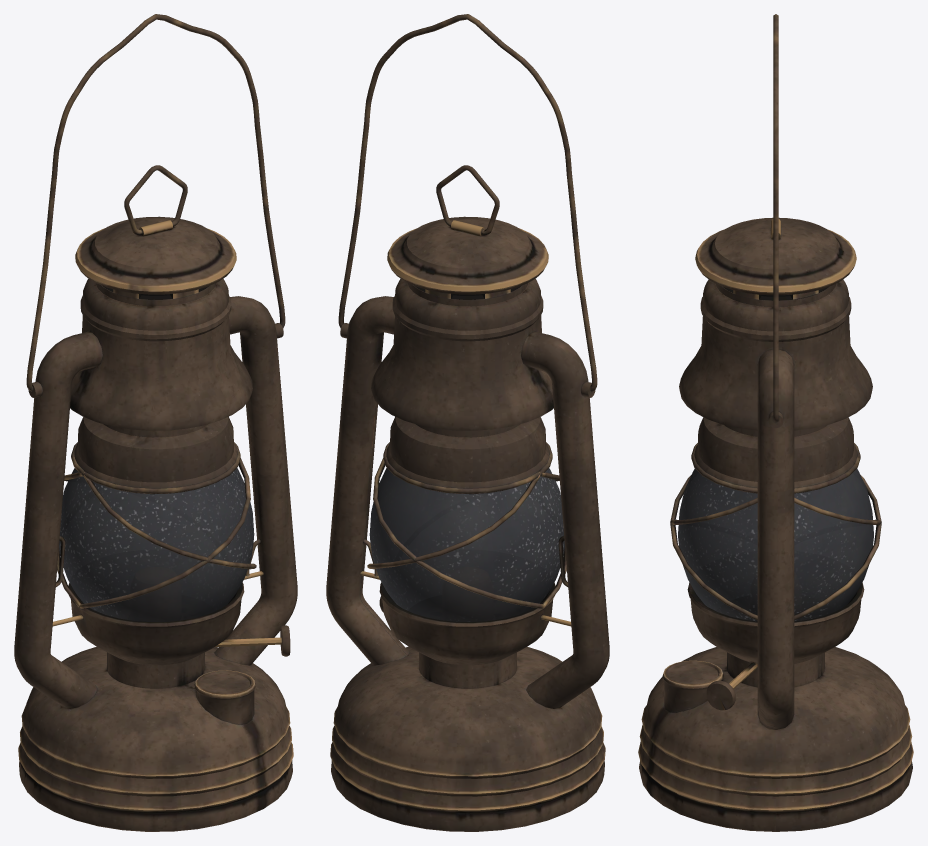
File: lantern_final.glb
The picture shows the model from 3 angles, left to right: view 1: azimuth 30°, elevation 25°; view 2: azimuth 150°, elevation 25°; view 3: azimuth 270°, elevation 25°; orthographic projection.
Parts seen in each view (by area): view 1: SM_Lantern_Fount, SM_Lantern_Hood, SM_Lantern_Tubes, SM_Lantern_Globe, SM_Lantern_Burner, SM_Lantern_Cap, SM_Lantern_Bail, SM_Lantern_Guard, SM_Lantern_FillCap, SM_Lantern_TopHandle; view 2: SM_Lantern_Fount, SM_Lantern_Hood, SM_Lantern_Tubes, SM_Lantern_Globe, SM_Lantern_Cap, SM_Lantern_Burner, SM_Lantern_Bail, SM_Lantern_Guard, SM_Lantern_TopHandle; view 3: SM_Lantern_Fount, SM_Lantern_Hood, SM_Lantern_Globe, SM_Lantern_Tubes, SM_Lantern_Cap, SM_Lantern_Burner, SM_Lantern_Guard, SM_Lantern_Bail, SM_Lantern_FillCap.
Boxes of the visible parts, x1,y1,x2,y2 form: SM_Lantern_Fount: (18,646,293,831); SM_Lantern_Hood: (70,278,252,494); SM_Lantern_Tubes: (14,296,297,708); SM_Lantern_Globe: (59,468,254,621); SM_Lantern_Burner: (68,582,290,688); SM_Lantern_Cap: (75,216,236,294); SM_Lantern_Bail: (26,14,285,391); SM_Lantern_Guard: (52,442,263,626); SM_Lantern_FillCap: (194,670,255,724); SM_Lantern_TopHandle: (124,165,187,236); SM_Lantern_Fount: (330,646,605,831); SM_Lantern_Hood: (371,278,553,494); SM_Lantern_Tubes: (326,296,609,708); SM_Lantern_Globe: (369,468,564,621); SM_Lantern_Cap: (387,216,548,294); SM_Lantern_Burner: (379,582,555,688); SM_Lantern_Bail: (338,14,597,391); SM_Lantern_Guard: (360,442,571,626); SM_Lantern_TopHandle: (436,165,499,236); SM_Lantern_Fount: (638,647,913,831); SM_Lantern_Hood: (679,279,872,493); SM_Lantern_Globe: (678,468,873,621); SM_Lantern_Tubes: (757,349,794,729); SM_Lantern_Cap: (695,217,856,295); SM_Lantern_Burner: (687,582,864,710); SM_Lantern_Guard: (670,443,881,620); SM_Lantern_Bail: (773,14,778,422); SM_Lantern_FillCap: (662,660,723,712).
Size of the model in its own units: 0.1375 by 0.3598 by 0.118.
Materials: 2 (2 with a texture image).
